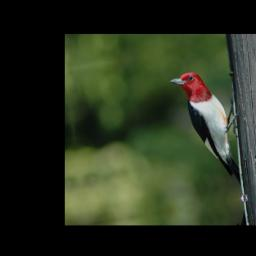Woodpecker: (167, 64, 254, 199)
